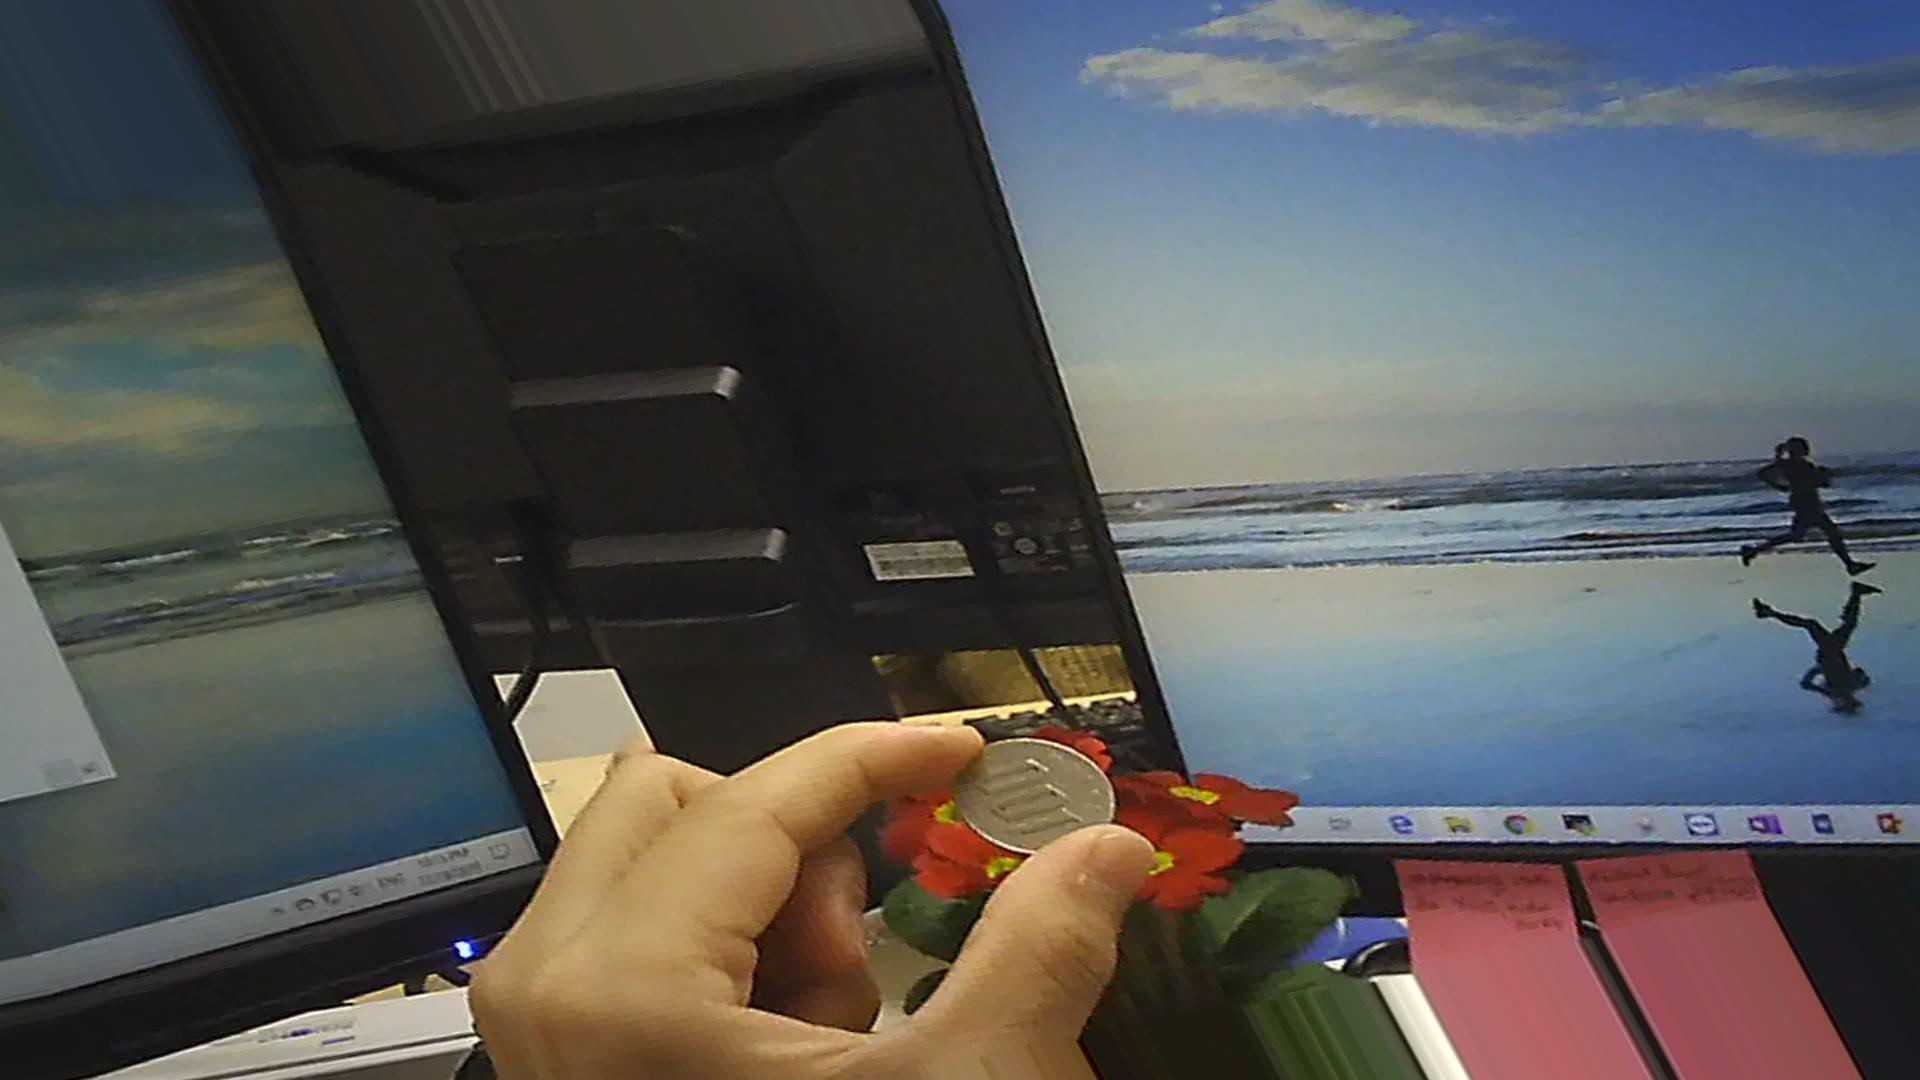100 Yen: (939, 735, 1110, 861)
